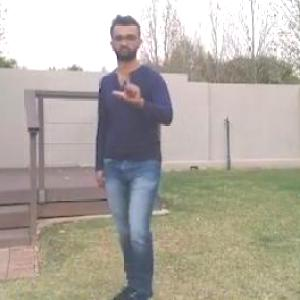land_hand: (112, 67, 146, 107)
